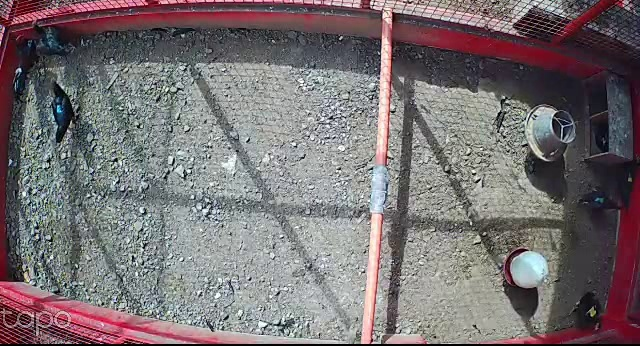Chicken: (49, 79, 86, 144), (27, 16, 79, 59), (611, 151, 640, 211), (570, 290, 604, 334), (578, 186, 620, 214)
Rooster: (10, 30, 41, 101)
Saddle_Color_Blue: (56, 106, 64, 113)
Saddle_Color_Yellow: (587, 306, 597, 316)
Saddle_Color_YellowGreen: (627, 173, 634, 182)
